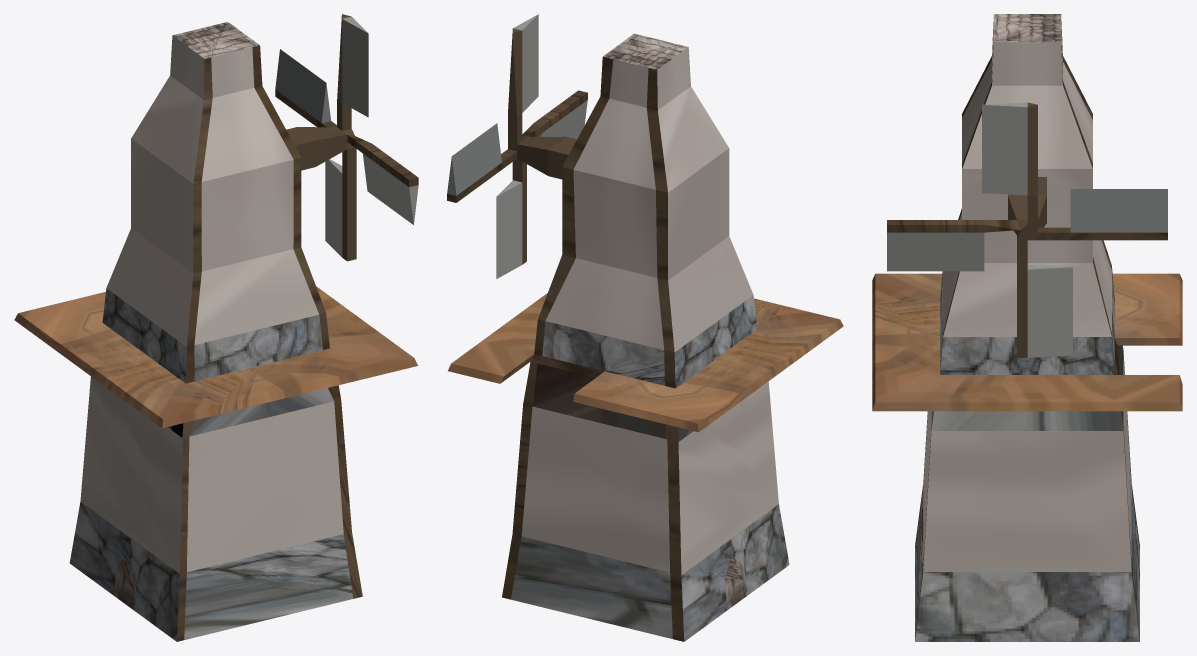
File: WindMill.fbx
The picture shows the model from 3 angles, left to right: view 1: azimuth 30°, elevation 25°; view 2: azimuth 150°, elevation 25°; view 3: azimuth 270°, elevation 25°; orthographic projection. The views are drawn at different scales.
Parts seen in each view (by area): view 1: Cube; view 2: Cube; view 3: Cube.
Boxes of the visible parts, x1,y1,x2,y2 form: Cube: (14, 14, 418, 641); Cube: (447, 14, 843, 641); Cube: (872, 14, 1182, 641).
Bounding box in the file's own units: 492 × 962 × 478.
